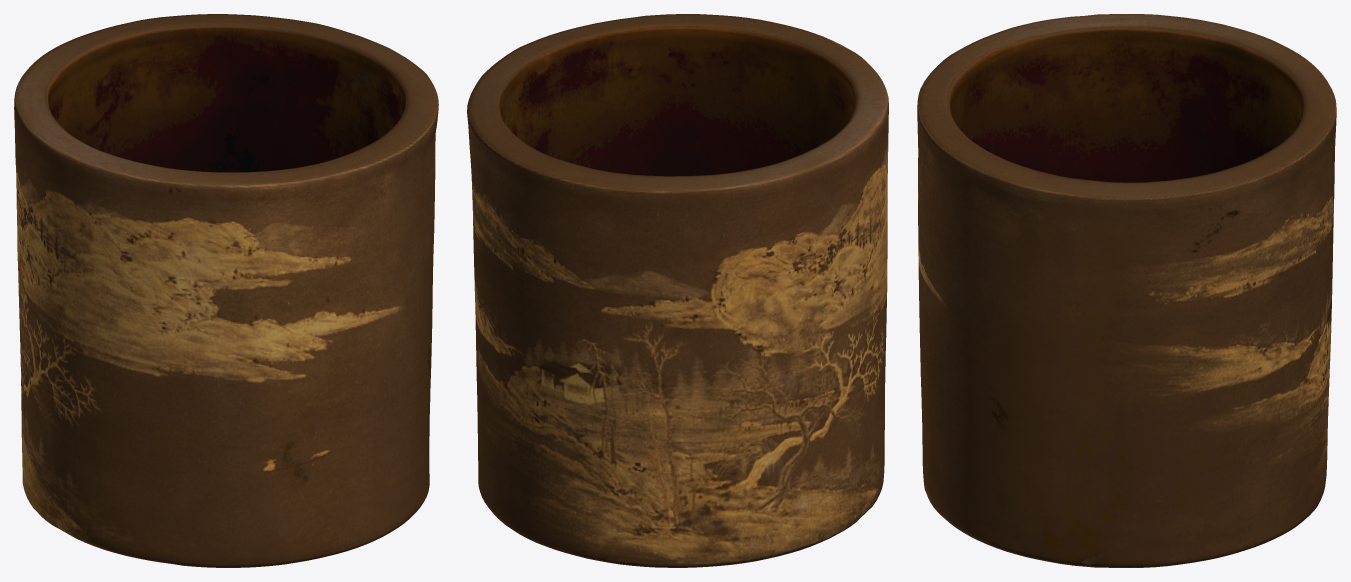
3 views of the same model, side by side, from view 1: azimuth 30°, elevation 25°; view 2: azimuth 150°, elevation 25°; view 3: azimuth 270°, elevation 25° (orthographic).
Parts seen in each view (by area): view 1: SZB_lhf_128; view 2: SZB_lhf_128; view 3: SZB_lhf_128.
Boxes of the visible parts, x1,y1,x2,y2 form: SZB_lhf_128: (14,14,438,567); SZB_lhf_128: (467,14,888,567); SZB_lhf_128: (917,14,1336,567).
Size of the model in its own units: 154 by 156 by 154.
